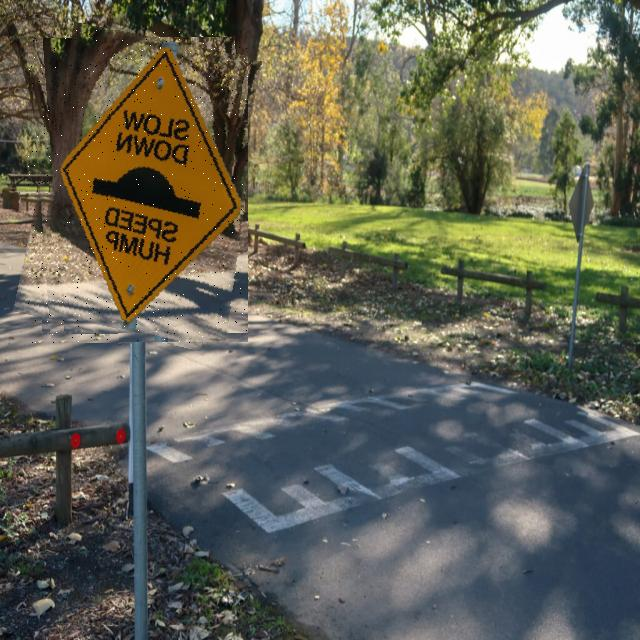hump: (28, 30, 248, 343)
